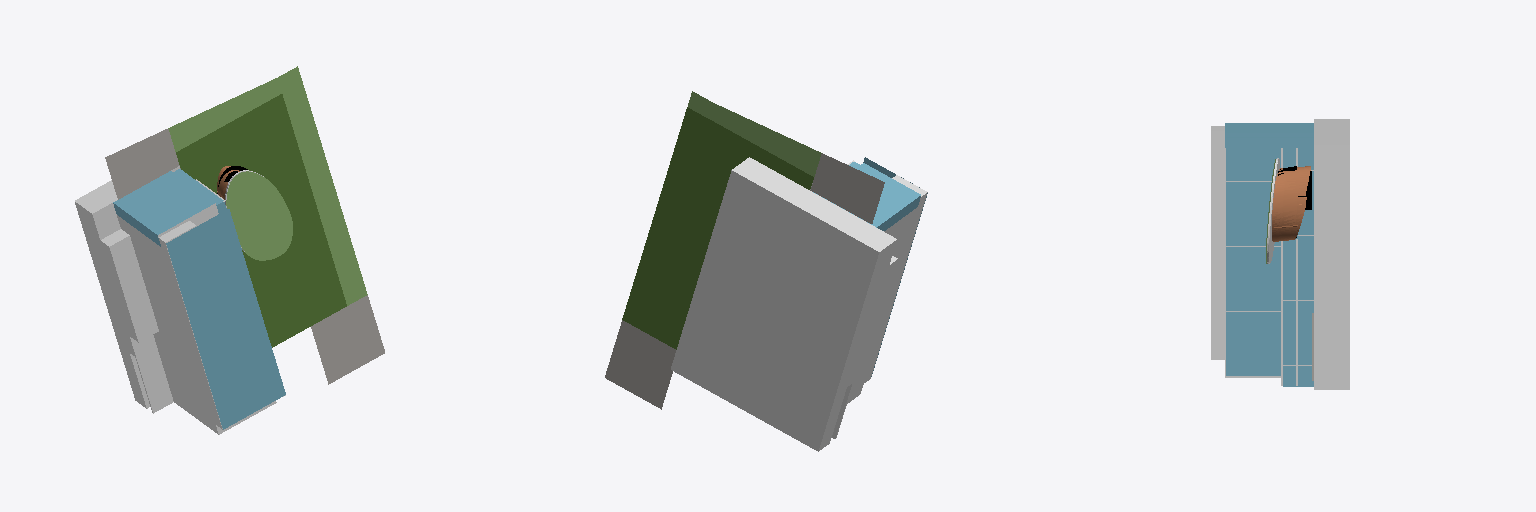
The model's file is opt3-4.obj.
3 renders of one model, left to right at view 1: azimuth 30°, elevation 25°; view 2: azimuth 150°, elevation 25°; view 3: azimuth 270°, elevation 25°, orthographic.
Size of the model in its own units: 340 by 361 by 141.